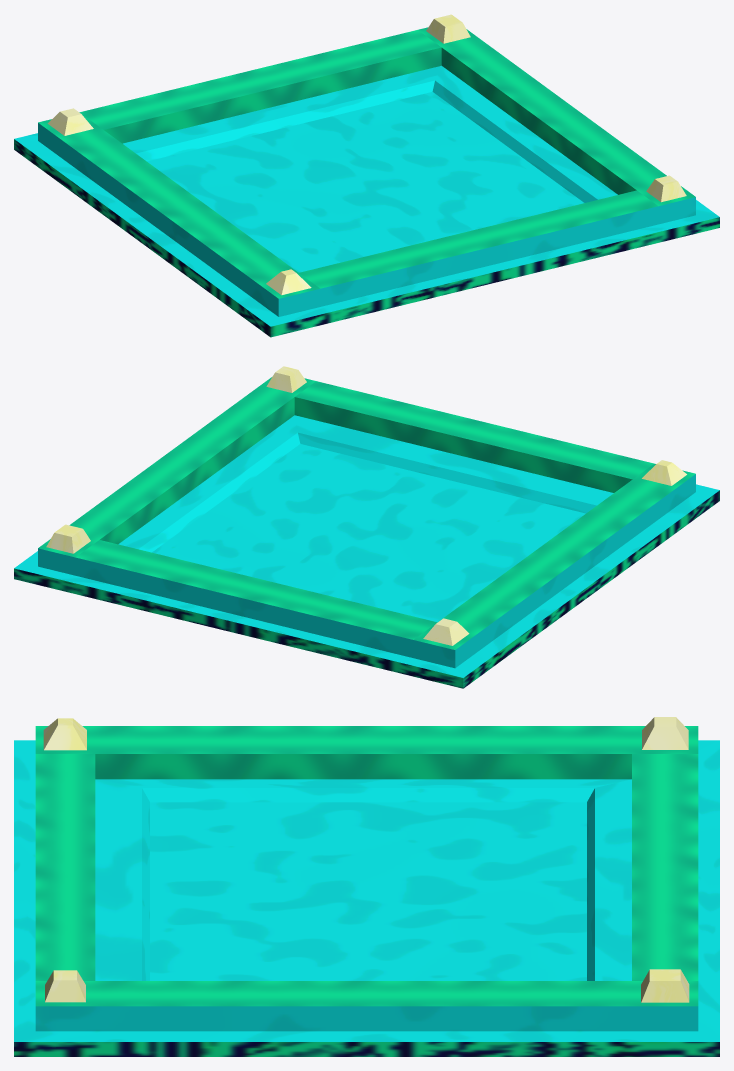
The model's file is Sm_Field_02.fbx.
3 views of the same model, one above another, from view 1: azimuth 30°, elevation 25°; view 2: azimuth 150°, elevation 25°; view 3: azimuth 270°, elevation 25° (orthographic). The views are drawn at different scales.
Visible parts, largest first — view 1: Sm_Field_02; view 2: Sm_Field_02; view 3: Sm_Field_02.
Part boxes in pixels (<box>): Sm_Field_02: <box>14,14,719,337</box>; Sm_Field_02: <box>14,366,719,688</box>; Sm_Field_02: <box>14,717,719,1056</box>.
Size of the model in its own units: 18.45 by 1.66 by 18.25.
1 material, 1 textured.
